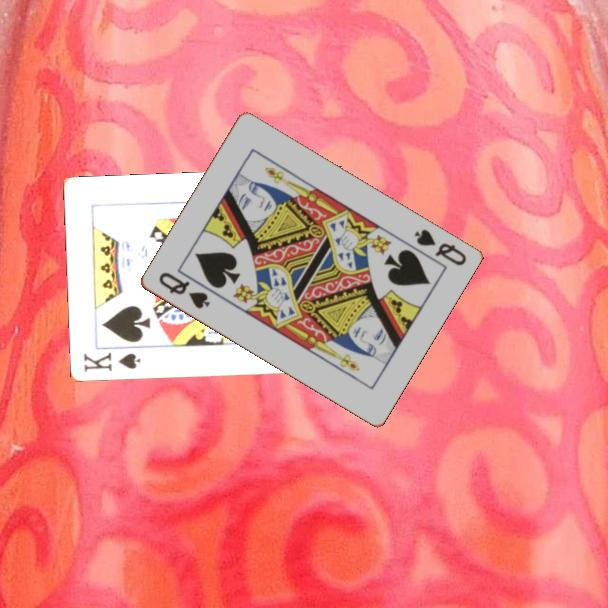s12: (410, 225, 469, 269), (155, 268, 213, 312)
s13: (80, 349, 143, 375)
